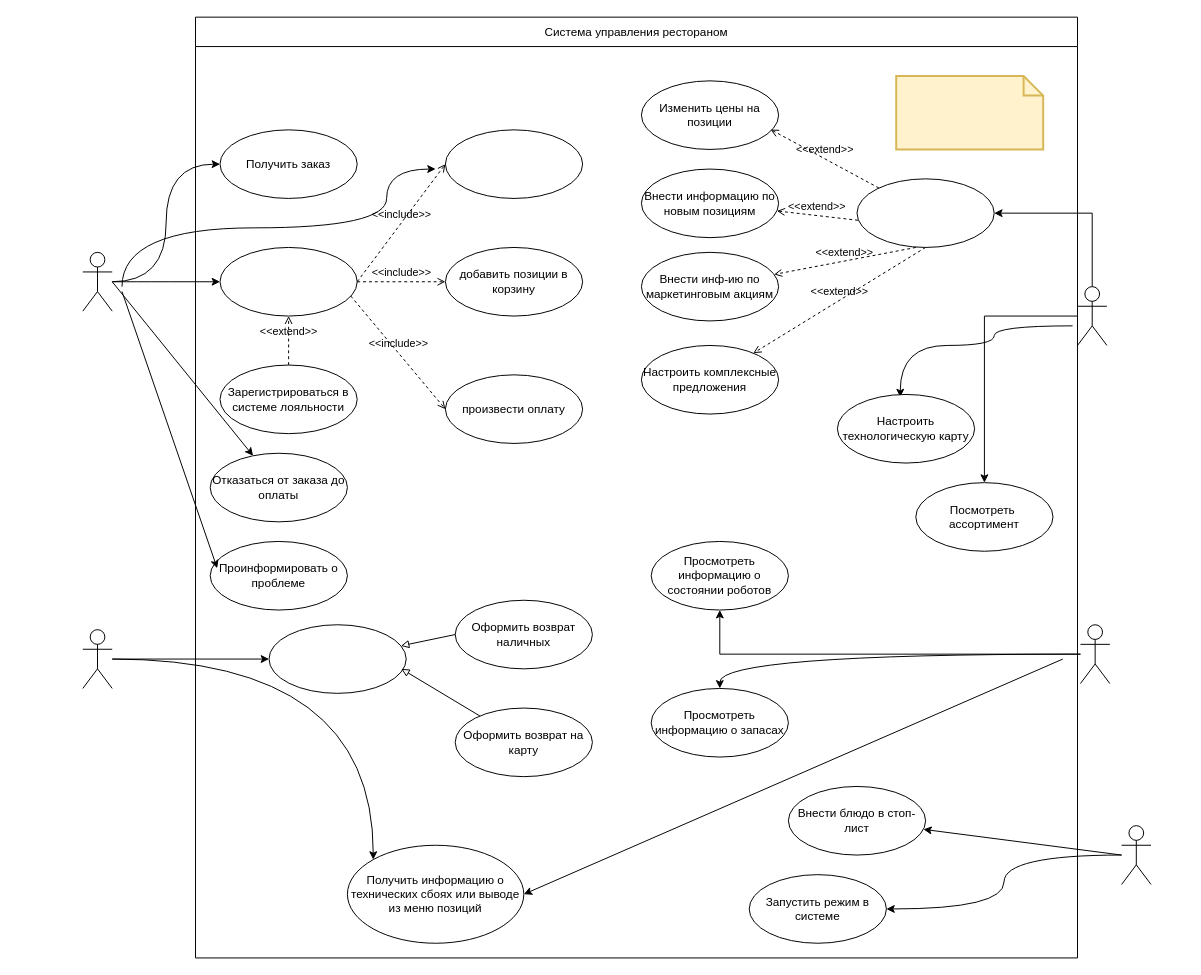
The diagram is 1201 pixels wide and 975 high, and some of its shapes have lost their labels. Here are the shapes that lost their labels. From the top down, the box of each, then its label:
(895, 74, 1044, 150): Постусловие: внесенные изменения вступают в силу на след.торговый день
(444, 129, 583, 198): ознакомиться с меню
(856, 178, 994, 247): Внести информацию по ассортименту
(82, 251, 112, 311): Посетитель ресторана
(219, 246, 357, 316): Оформить заказ
(1077, 286, 1107, 345): Менеджер по ассортименту
(82, 629, 112, 688): Менеджер по гостеприимству
(268, 624, 406, 693): Оформить отказ от покупки
(1079, 624, 1110, 684): Сотрудник производства
(1121, 825, 1151, 884): Менеджер смены
